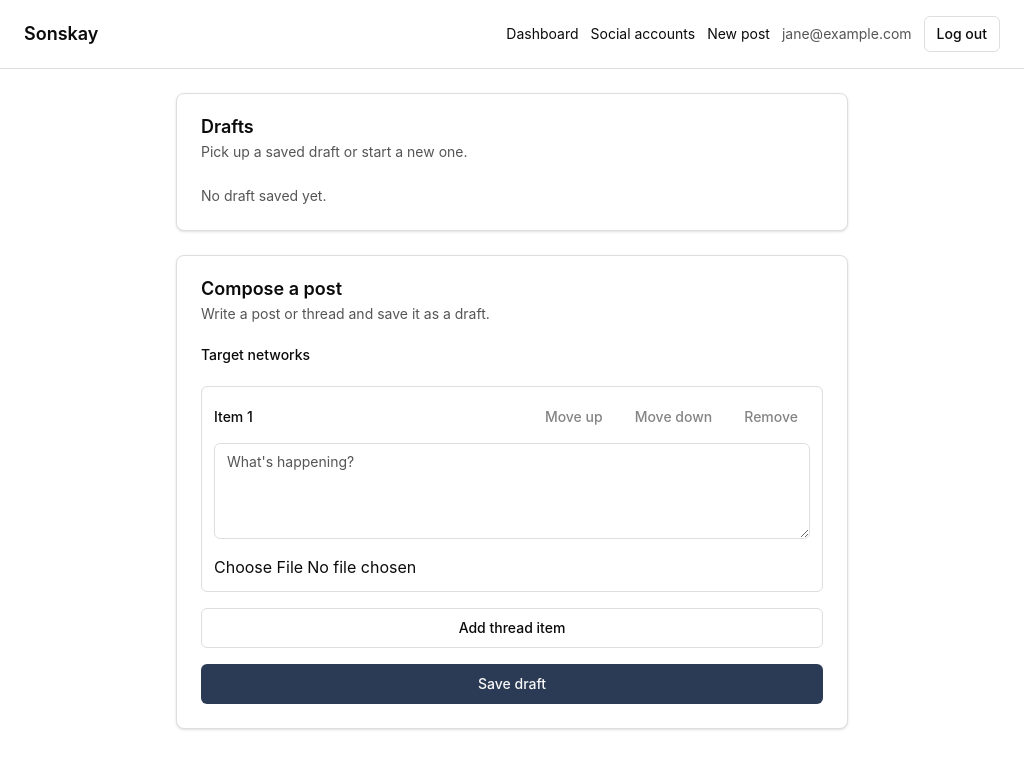
Scenario: post composer page › requires at least one target network before saving
The width and height of the screenshot is (1024, 768).
Click the button "Save draft" at x=512, y=684, box [201,664,823,704]
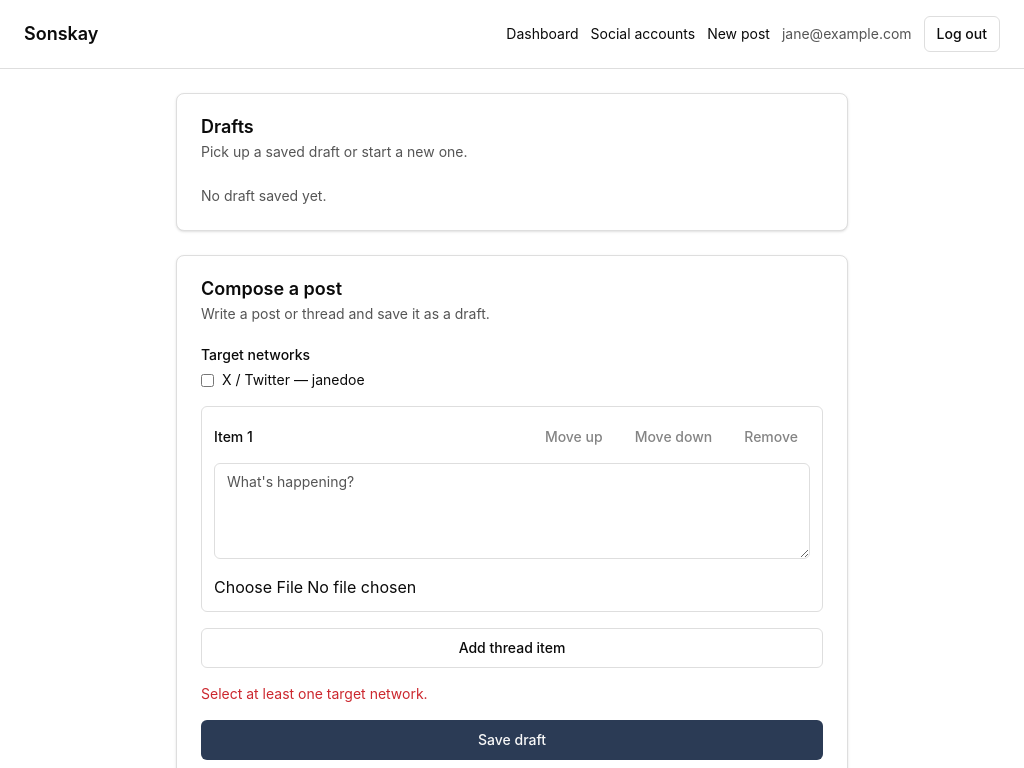
Expected: the text "Select at least one target network." is shown, [201,685,428,702]
